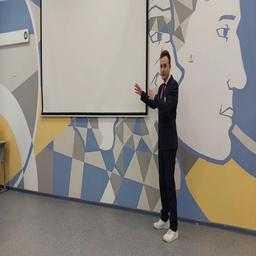person: (135, 51, 179, 241)
